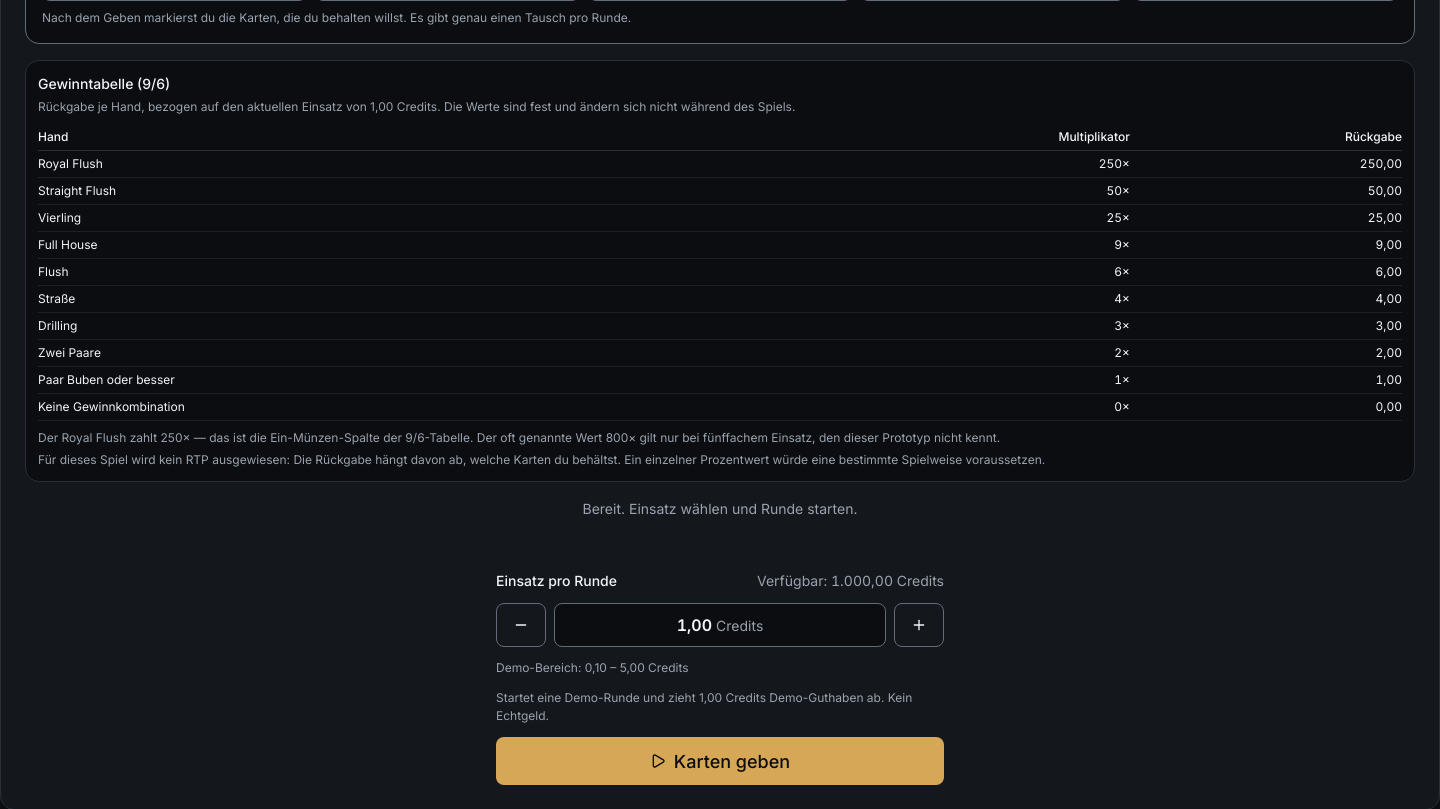
VideoPokerGame — Oberfläche und Wallet-Verdrahtung › spielt eine Runde vom Geben bis zum Tausch durch und bucht genau einmal
(page scrolled)
Click the button "Karten geben": (720,761) [496,737,944,785]
(page scrolled)
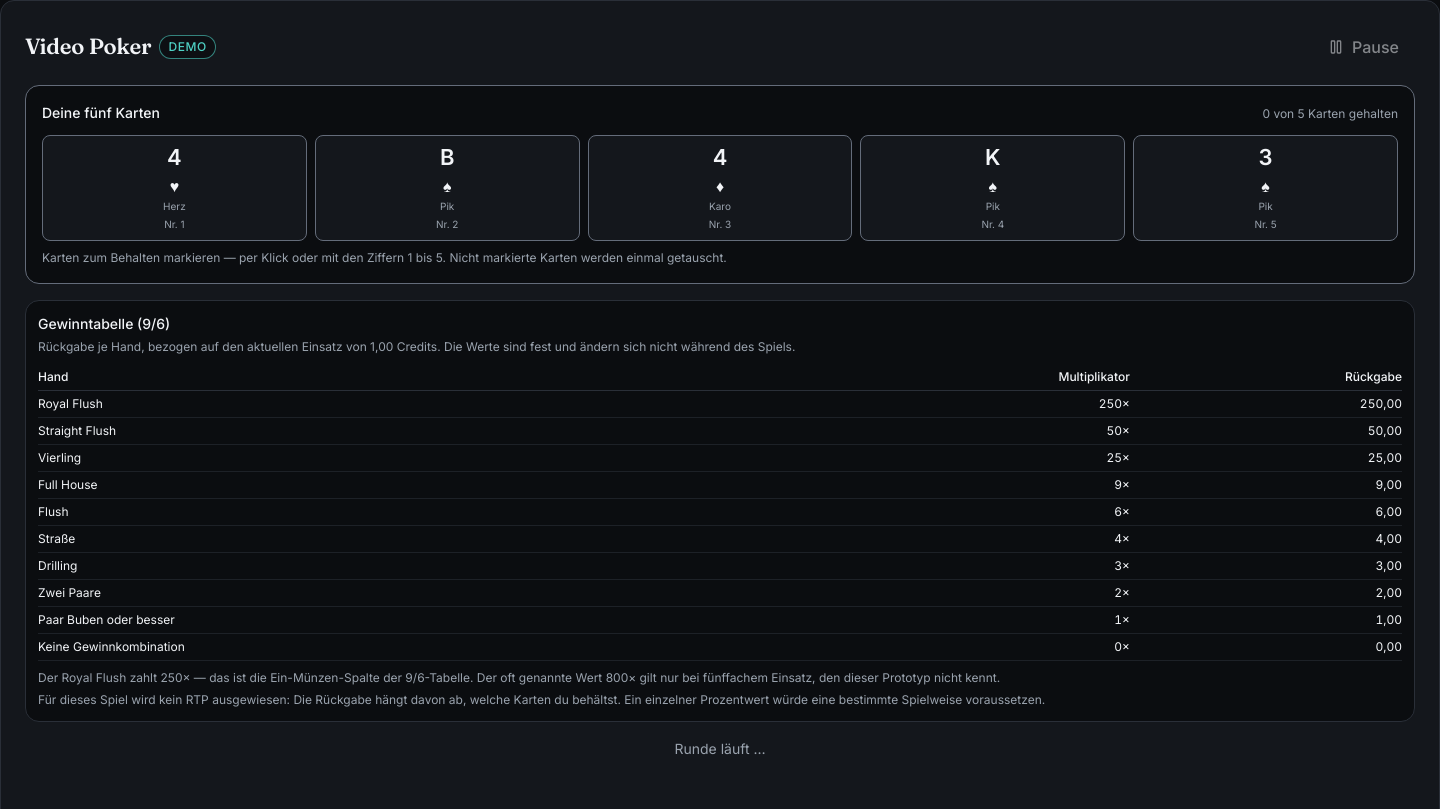
expect the button with aria-label "Karte 1 von 5:" is not pressed: met
expect the button with aria-label "Karte 3 von 5:" is not pressed: met, box [588,135,852,241]
Click the button with aria-label "Karte 1 von 5:": (174,188) [42,135,307,241]
(page scrolled)
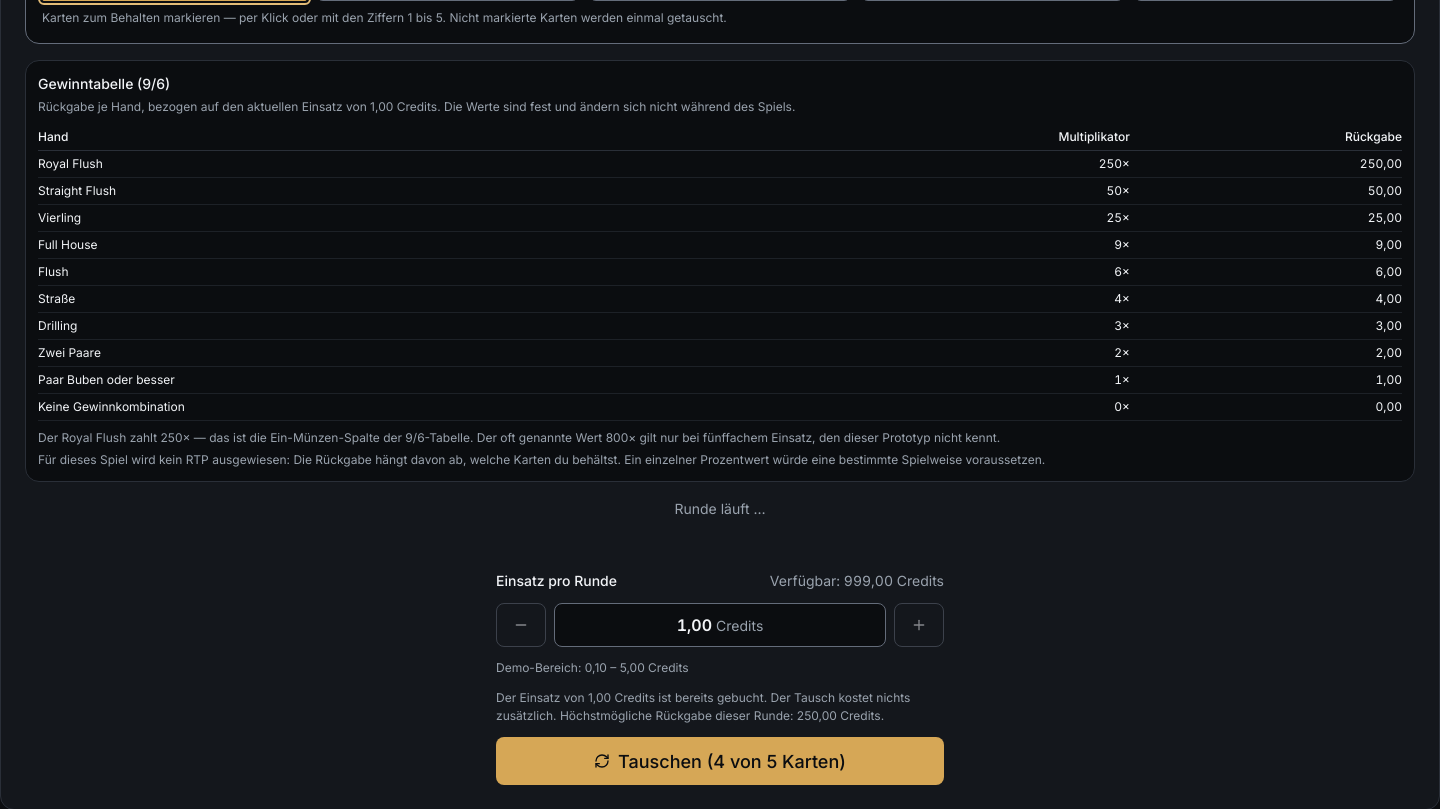
Click the button "Tauschen (4 von 5 Karten)": (720,761) [496,737,944,785]
Wait 50 ms
(page scrolled)
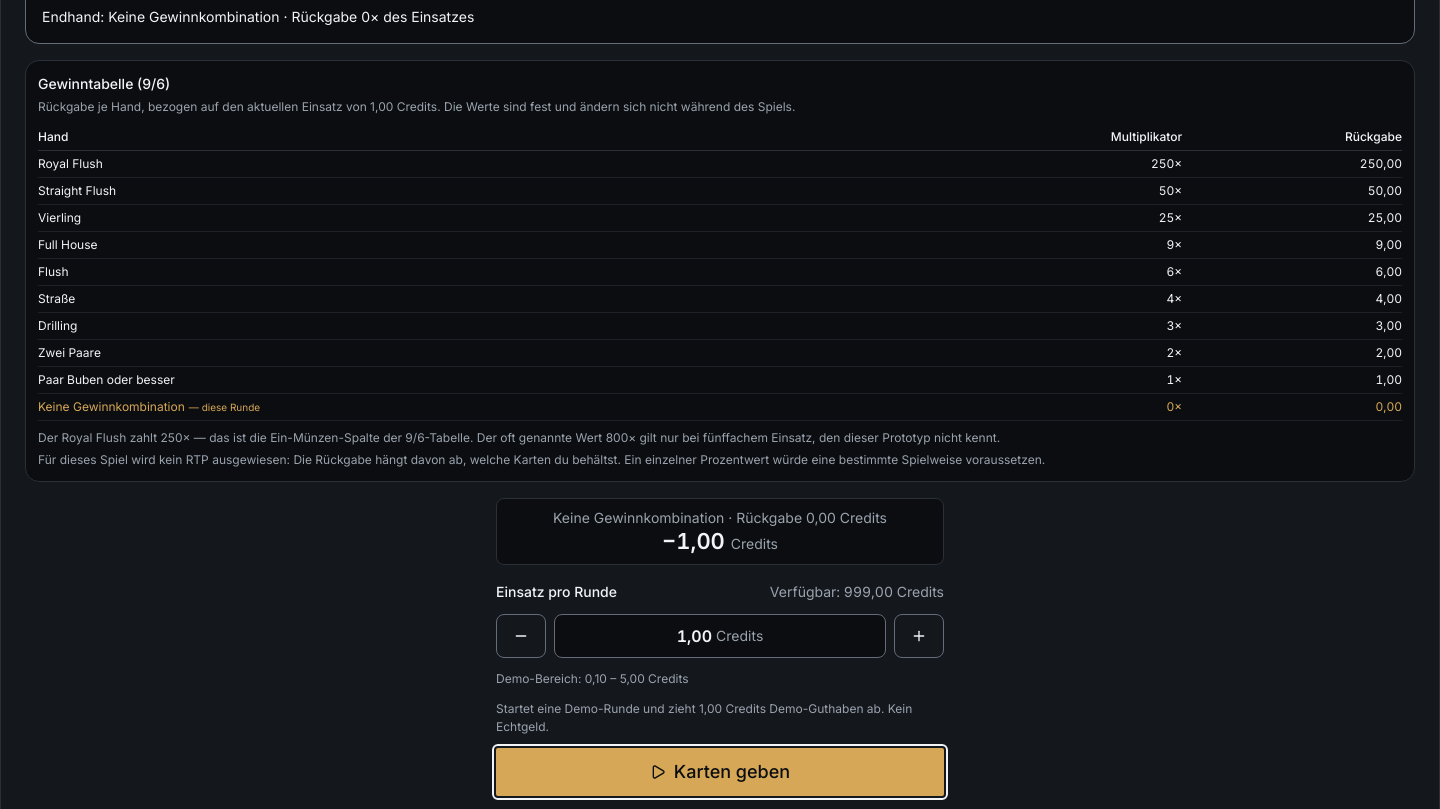
expect the button "Karten geben" is enabled: met, box [496,748,944,796]
expect the text "Endhand: Keine Gewinnkombination · Rückgabe 0× des Einsatzes" is shown: met, box [42,8,474,25]
